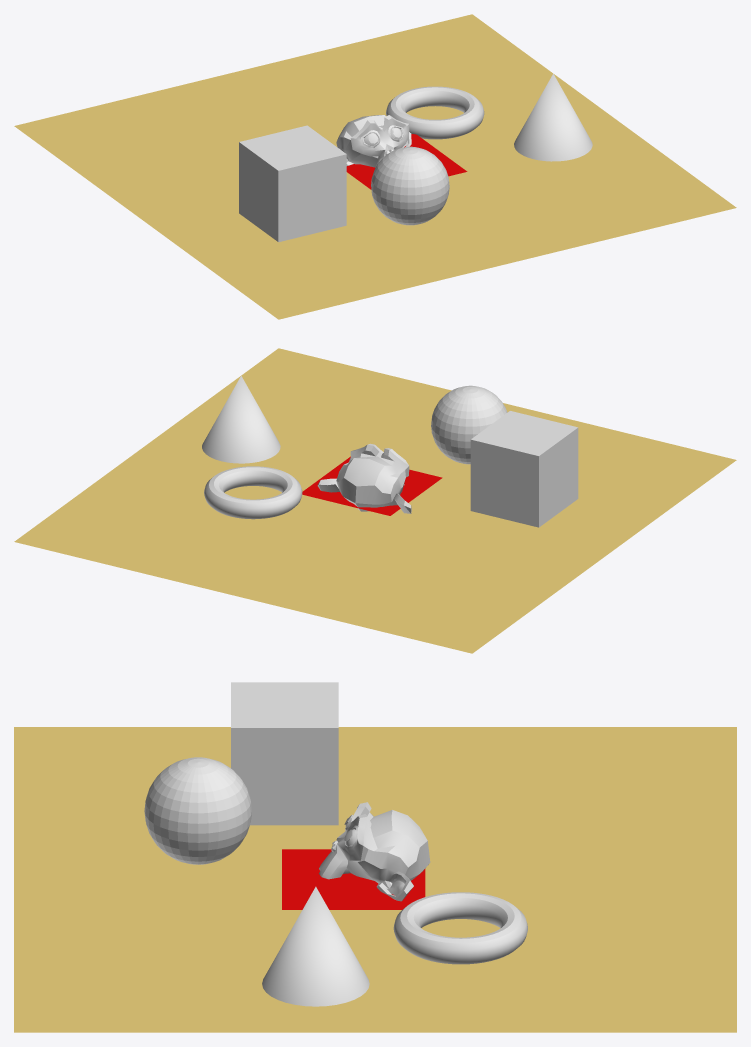
3 renders of one model, top to bottom at view 1: azimuth 30°, elevation 25°; view 2: azimuth 150°, elevation 25°; view 3: azimuth 270°, elevation 25°, orthographic. The views are drawn at different scales.
Parts seen in each view (by area): view 1: Plane, Cube, Sphere, Cone, Torus, Suzanne, smallFloor; view 2: Plane, Cube, Suzanne, Cone, Sphere, Torus, smallFloor; view 3: Plane, Cube, Sphere, Cone, Torus, Suzanne, smallFloor.
Boxes of the visible parts, bbox=[...] form: Plane: bbox=[14, 14, 736, 319]; Cube: bbox=[239, 125, 346, 242]; Sphere: bbox=[371, 146, 449, 225]; Cone: bbox=[514, 73, 592, 161]; Torus: bbox=[386, 86, 484, 139]; Suzanne: bbox=[336, 115, 411, 167]; smallFloor: bbox=[346, 134, 467, 189]; Plane: bbox=[14, 348, 736, 653]; Cube: bbox=[470, 411, 578, 527]; Suzanne: bbox=[317, 443, 411, 513]; Cone: bbox=[202, 376, 280, 463]; Sphere: bbox=[431, 385, 507, 464]; Torus: bbox=[204, 466, 302, 519]; smallFloor: bbox=[302, 456, 442, 515]; Plane: bbox=[14, 727, 736, 1032]; Cube: bbox=[231, 682, 338, 825]; Sphere: bbox=[144, 757, 251, 864]; Cone: bbox=[262, 886, 369, 1006]; Torus: bbox=[393, 892, 527, 964]; Suzanne: bbox=[319, 802, 430, 901]; smallFloor: bbox=[282, 849, 425, 909].
Bounding box in the file's own units: 13.43 × 2.15 × 13.43.
